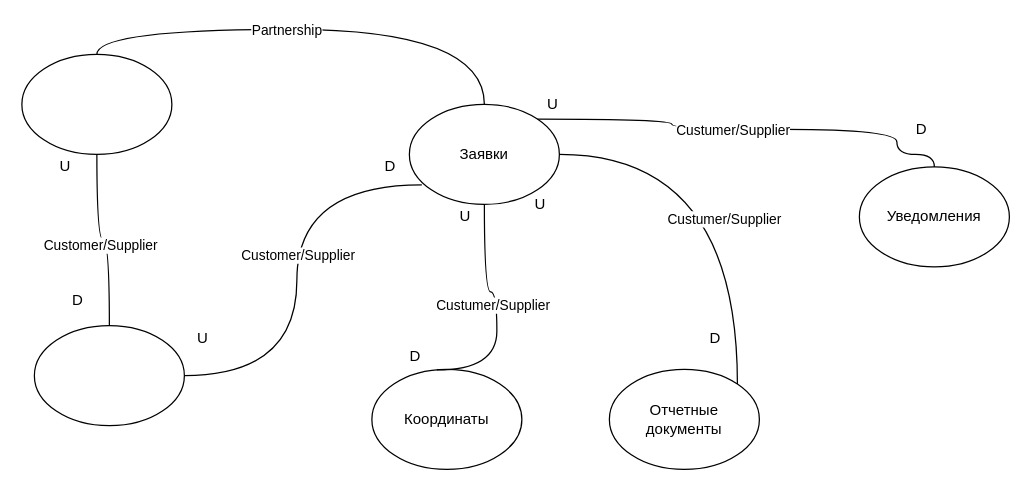
This 1031x491 diagram has some shape labels left out. The shapes that lost their labels are listed below. From the top down, each one's centre as x and y in pixels, then its label:
the point at 96,103: Сотрудники
the point at 108,375: Склады и Оборудование
